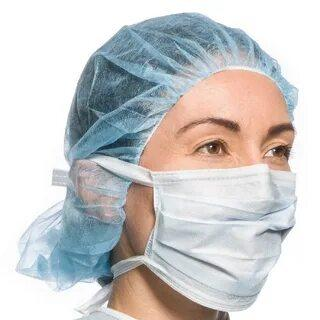hairnet: (20, 13, 305, 261)
mask: (135, 159, 315, 313)
